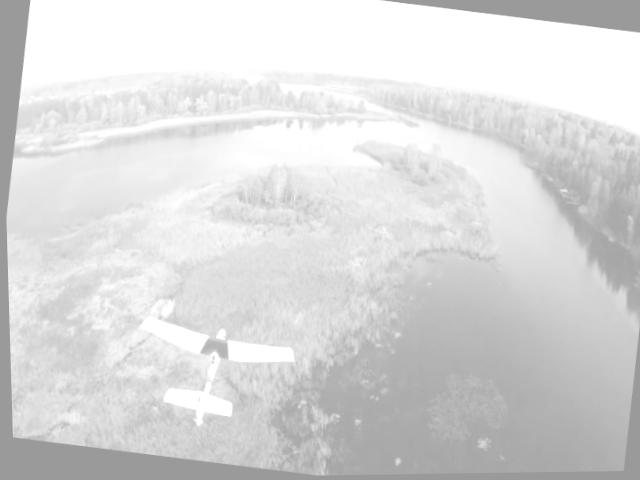hedef: (125, 305, 302, 444)
